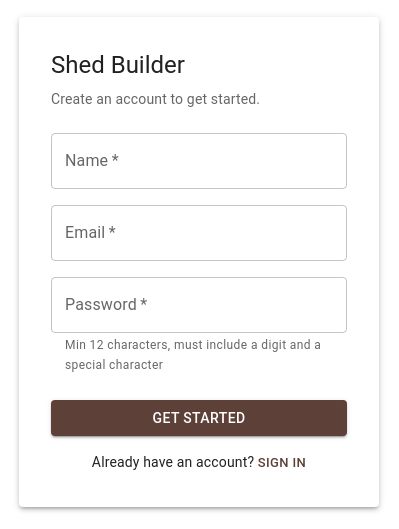
Test case: App › toggles back to register from login
Note: Go to login
What coordinates should you click on to do the following:
click the button "Sign in"
I would click on:
 (282, 464)
Its box is x1=258 y1=452 x2=306 y2=475.
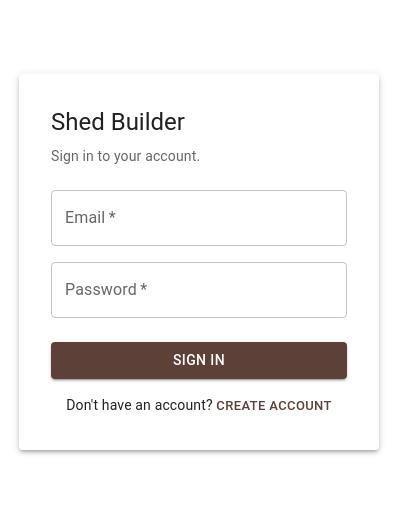
Check: the text "Sign in to your account." is shown, box x1=51 y1=148 x2=200 y2=164
Note: Go back to register
What coordinates should you click on to do the following:
click the button "Create account"
I would click on:
 (274, 406)
Its box is x1=216 y1=395 x2=332 y2=418.
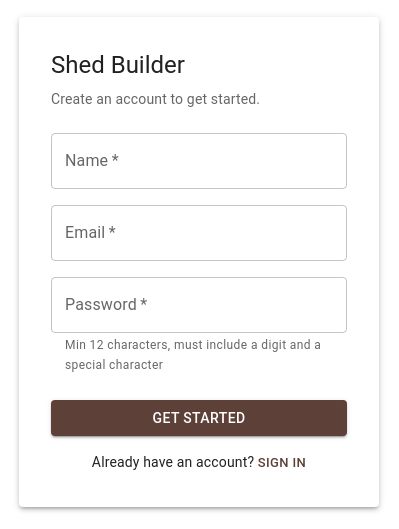
Check: the text "Create an account to get started." is shown, box x1=51 y1=91 x2=260 y2=107
